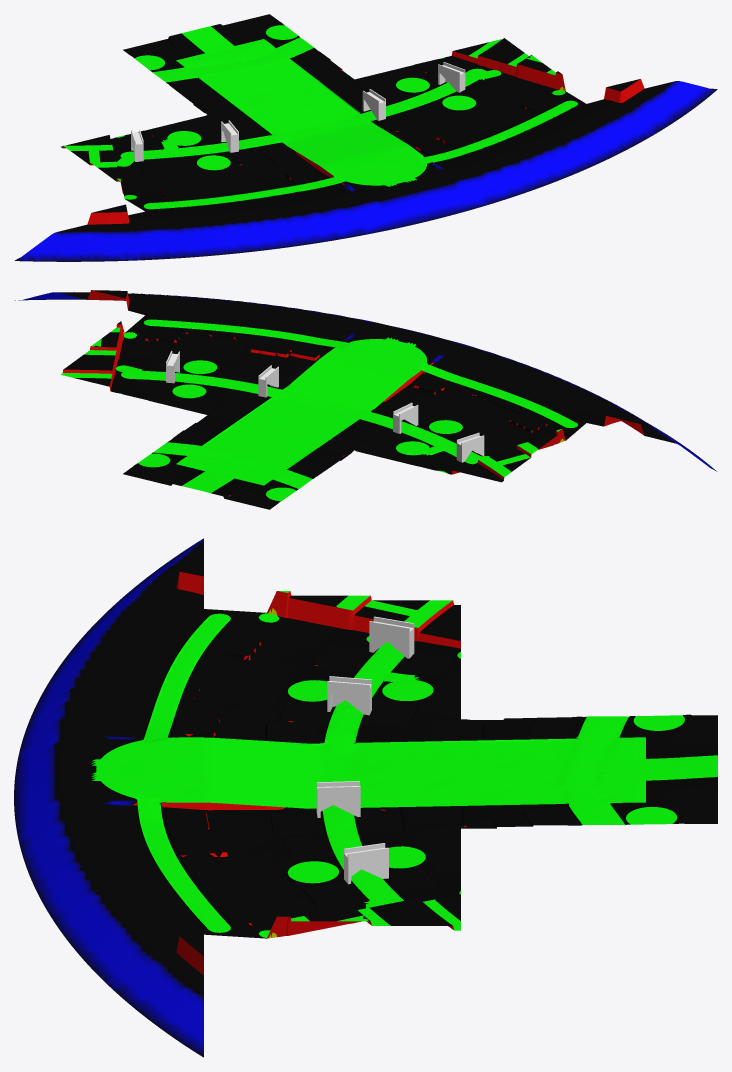
The model's file is concordia_terrain_razas.glb.
3 renders of one model, top to bottom at view 1: azimuth 30°, elevation 25°; view 2: azimuth 150°, elevation 25°; view 3: azimuth 270°, elevation 25°, orthographic. The views are drawn at different scales.
Visible parts, largest first — view 1: TRN_City_Chunk_8_6_LOD0, TRN_City_Chunk_9_5_LOD0, TRN_City_Chunk_8_4_LOD0, TRN_City_Chunk_8_5_LOD0, TRN_City_Chunk_7_5_LOD0, TRN_City_Chunk_7_4_LOD0, TRN_City_Chunk_9_4_LOD0, TRN_City_Chunk_6_4_LOD0, TRN_City_Chunk_10_4_LOD0, TRN_ArchBridge_04, TRN_ArchBridge_03, TRN_ArchBridge_02; view 2: TRN_City_Chunk_9_5_LOD0, TRN_City_Chunk_8_5_LOD0, TRN_City_Chunk_8_6_LOD0, TRN_City_Chunk_7_5_LOD0, TRN_City_Chunk_8_4_LOD0, TRN_City_Chunk_9_4_LOD0, TRN_City_Chunk_7_4_LOD0, TRN_City_Chunk_10_4_LOD0, TRN_City_Chunk_6_4_LOD0, TRN_ArchBridge_01, TRN_ArchBridge_02, TRN_ArchBridge_03; view 3: TRN_City_Chunk_7_5_LOD0, TRN_City_Chunk_8_6_LOD0, TRN_City_Chunk_8_5_LOD0, TRN_City_Chunk_9_5_LOD0, TRN_City_Chunk_8_4_LOD0, TRN_City_Chunk_9_4_LOD0, TRN_City_Chunk_7_4_LOD0, TRN_City_Chunk_10_4_LOD0, TRN_City_Chunk_6_4_LOD0, TRN_ArchBridge_02, TRN_ArchBridge_01, TRN_ArchBridge_03 (+1 smaller).
Part boxes in pixels (left/top/right/bottom): TRN_City_Chunk_8_6_LOD0: left=123, top=14, right=354, bottom=114; TRN_City_Chunk_9_5_LOD0: left=355, top=38, right=585, bottom=141; TRN_City_Chunk_8_4_LOD0: left=292, top=140, right=499, bottom=236; TRN_City_Chunk_8_5_LOD0: left=208, top=79, right=438, bottom=176; TRN_City_Chunk_7_5_LOD0: left=61, top=114, right=291, bottom=211; TRN_City_Chunk_7_4_LOD0: left=146, top=177, right=352, bottom=257; TRN_City_Chunk_9_4_LOD0: left=440, top=104, right=625, bottom=200; TRN_City_Chunk_6_4_LOD0: left=14, top=204, right=184, bottom=261; TRN_City_Chunk_10_4_LOD0: left=587, top=79, right=717, bottom=149; TRN_ArchBridge_04: left=438, top=64, right=465, bottom=92; TRN_ArchBridge_03: left=362, top=89, right=385, bottom=120; TRN_ArchBridge_02: left=221, top=121, right=238, bottom=152; TRN_City_Chunk_9_5_LOD0: left=61, top=315, right=290, bottom=414; TRN_City_Chunk_8_5_LOD0: left=208, top=352, right=439, bottom=450; TRN_City_Chunk_8_6_LOD0: left=123, top=415, right=353, bottom=509; TRN_City_Chunk_7_5_LOD0: left=355, top=388, right=585, bottom=482; TRN_City_Chunk_8_4_LOD0: left=293, top=315, right=486, bottom=387; TRN_City_Chunk_9_4_LOD0: left=146, top=295, right=339, bottom=353; TRN_City_Chunk_7_4_LOD0: left=440, top=351, right=612, bottom=422; TRN_City_Chunk_10_4_LOD0: left=15, top=290, right=170, bottom=315; TRN_City_Chunk_6_4_LOD0: left=587, top=403, right=716, bottom=471; TRN_ArchBridge_01: left=456, top=434, right=484, bottom=462; TRN_ArchBridge_02: left=393, top=402, right=418, bottom=433; TRN_ArchBridge_03: left=258, top=365, right=278, bottom=397; TRN_City_Chunk_7_5_LOD0: left=204, top=591, right=460, bottom=722; TRN_City_Chunk_8_6_LOD0: left=461, top=714, right=717, bottom=828; TRN_City_Chunk_8_5_LOD0: left=204, top=719, right=460, bottom=831; TRN_City_Chunk_9_5_LOD0: left=204, top=827, right=460, bottom=938; TRN_City_Chunk_8_4_LOD0: left=14, top=715, right=203, bottom=851; TRN_City_Chunk_9_4_LOD0: left=21, top=824, right=203, bottom=960; TRN_City_Chunk_7_4_LOD0: left=21, top=607, right=203, bottom=743; TRN_City_Chunk_10_4_LOD0: left=85, top=931, right=203, bottom=1057; TRN_City_Chunk_6_4_LOD0: left=85, top=538, right=203, bottom=634; TRN_ArchBridge_02: left=327, top=676, right=371, bottom=715; TRN_ArchBridge_01: left=369, top=619, right=414, bottom=658; TRN_ArchBridge_03: left=316, top=781, right=360, bottom=817.
Size of what is drawn, in the model's own units: 239 by 11.28 by 137.
Materials: 7 (7 with a texture image).
